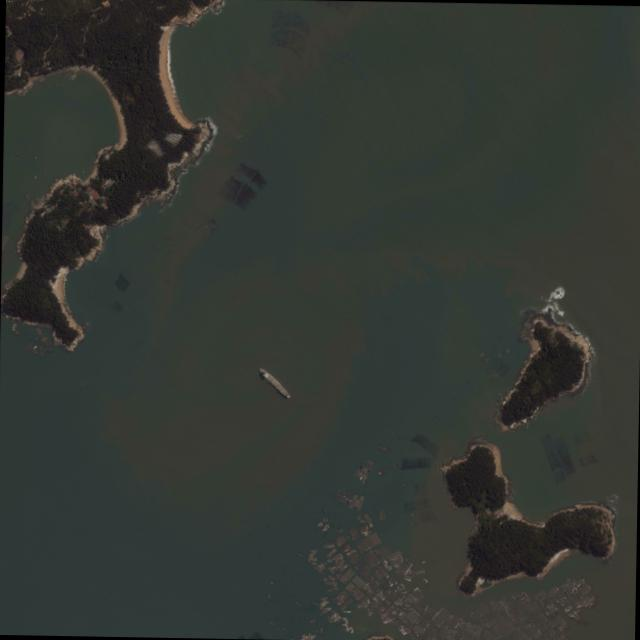ship: (257, 366, 292, 399)
